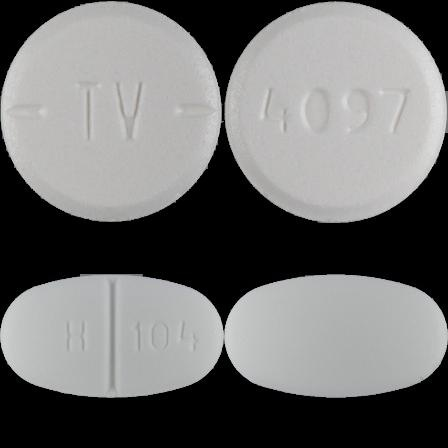50436-9023: (0, 0, 224, 224)
